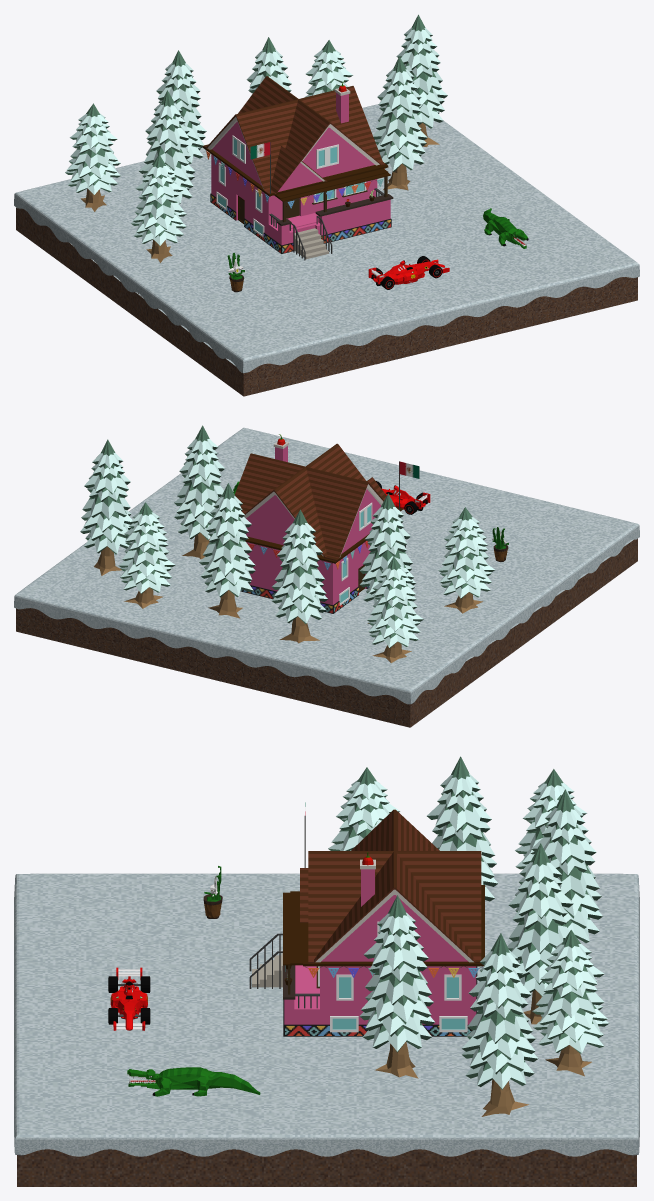
3 views of the same model, one above another, from view 1: azimuth 30°, elevation 25°; view 2: azimuth 150°, elevation 25°; view 3: azimuth 270°, elevation 25° (orthographic). The views are drawn at different scales.
Parts seen in each view (by area): view 1: Cube.003, Cube.1005, VEHICLES_FORMULA_1, ANIMAL_COCODRILO; view 2: Cube.003, Cube.1005, VEHICLES_FORMULA_1; view 3: Cube.003, Cube.1005, ANIMAL_COCODRILO, VEHICLES_FORMULA_1, OBJRANDOM_MONJA BLANCA.
Boxes of the visible parts, bbox=[...] form: Cube.003: bbox=[14, 14, 639, 396]; Cube.1005: bbox=[202, 76, 393, 260]; VEHICLES_FORMULA_1: bbox=[368, 256, 449, 289]; ANIMAL_COCODRILO: bbox=[483, 208, 528, 248]; Cube.003: bbox=[14, 425, 639, 727]; Cube.1005: bbox=[234, 434, 419, 613]; VEHICLES_FORMULA_1: bbox=[376, 481, 430, 514]; Cube.003: bbox=[14, 756, 639, 1186]; Cube.1005: bbox=[249, 802, 484, 1036]; ANIMAL_COCODRILO: bbox=[127, 1067, 260, 1096]; VEHICLES_FORMULA_1: bbox=[108, 967, 150, 1030]; OBJRANDOM_MONJA BLANCA: bbox=[203, 866, 222, 918].
Bounding box in the file's own units: 4040 × 1692 × 4040.
Materials: 75 (5 with a texture image).
